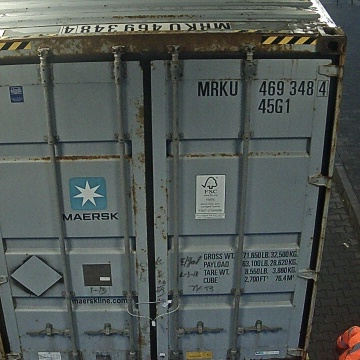serial_id: (197, 80, 326, 96)
